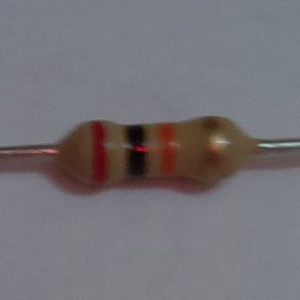black_band: (123, 120, 149, 184)
gold_band: (197, 113, 224, 185)
orange_band: (157, 119, 181, 181)
red_band: (89, 118, 111, 191)
